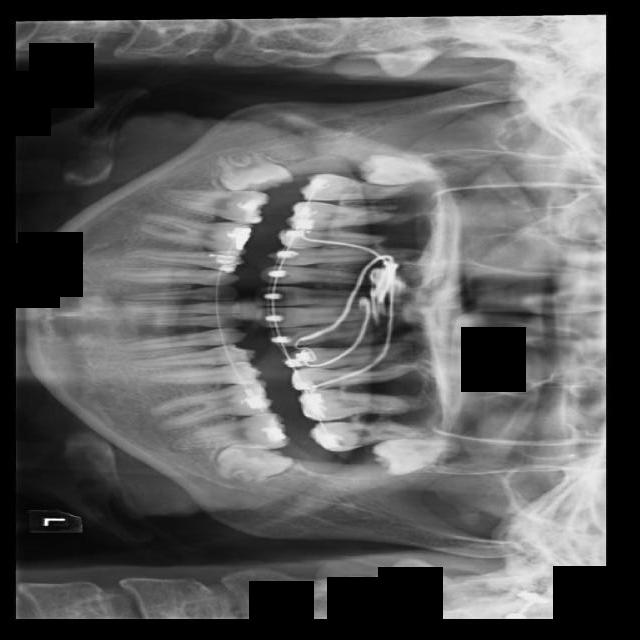3M ESPE Implant: (355, 150, 447, 197)
52: (199, 219, 251, 256), (225, 189, 269, 225)
73: (30, 596, 46, 608)
BioHorizons Implant: (308, 422, 446, 452)
BioLife Implant: (370, 427, 463, 480)
Biomet 3i Implant: (212, 436, 293, 492)
Blue Sky Bio Implant: (169, 413, 289, 450)
Caries: (299, 172, 408, 203)
Implant: (157, 187, 269, 225)
Keystone Dental Implant: (214, 140, 293, 201)
